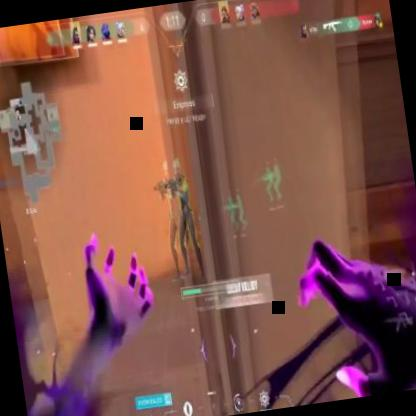enemy: (156, 156, 206, 290)
enemy_head: (172, 158, 182, 180)
